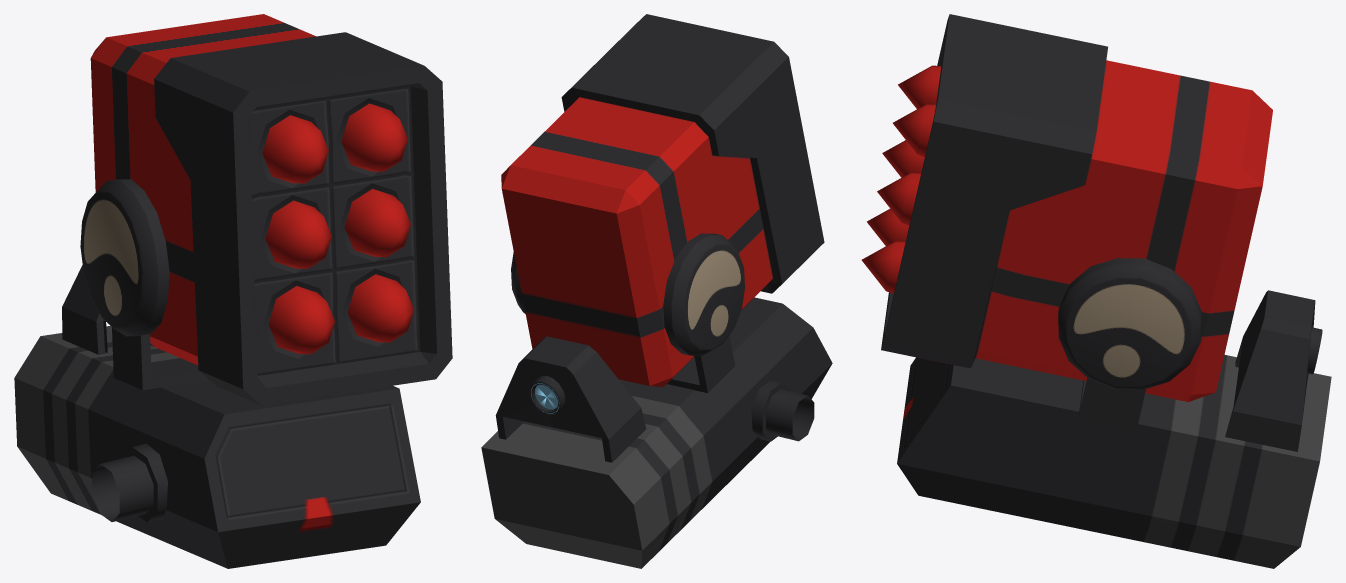
The model's file is Weapon_daodan_L.FBX.
The picture shows the model from 3 angles, left to right: view 1: azimuth 30°, elevation 25°; view 2: azimuth 150°, elevation 25°; view 3: azimuth 270°, elevation 25°; orthographic projection. The views are drawn at different scales.
Visible parts, largest first — view 1: Weapon_daodan_L; view 2: Weapon_daodan_L; view 3: Weapon_daodan_L.
Part boxes in pixels (left/top/right/bottom): Weapon_daodan_L: left=14, top=14, right=452, bottom=568; Weapon_daodan_L: left=481, top=14, right=832, bottom=568; Weapon_daodan_L: left=861, top=14, right=1331, bottom=568.
Bounding box in the file's own units: 1.09 × 1.92 × 1.65.
Materials: 1 (1 with a texture image).
